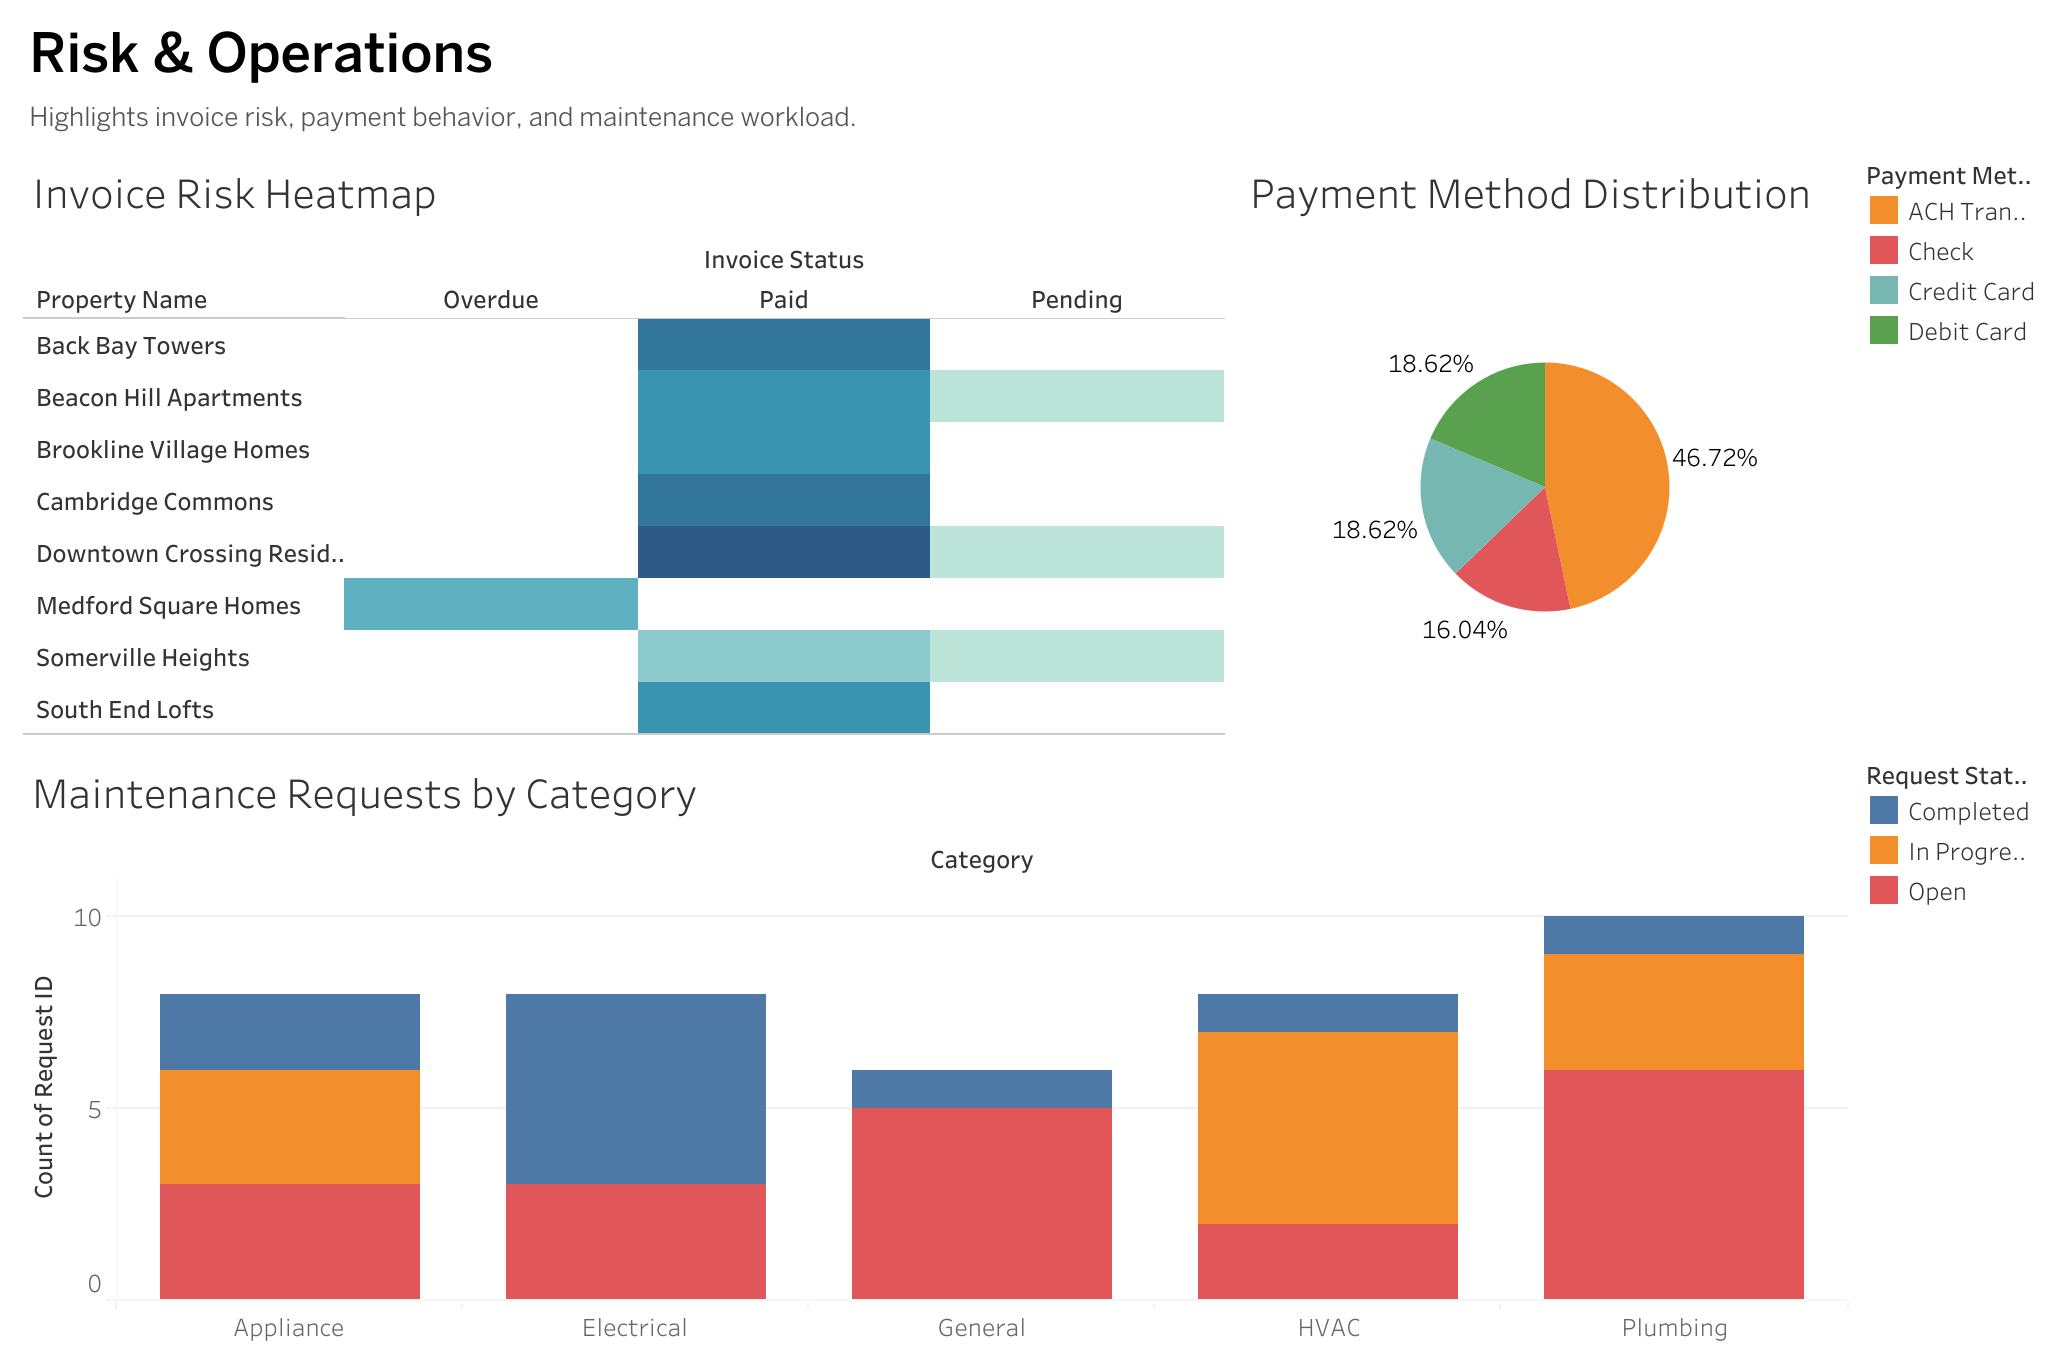

The dashboard page shown, as its layout file describes it:
{"tool":"tableau","page":{"name":"Risk & Operations","canvas":[1000,1000],"units":"permille","ordinal":2},"visuals":[{"type":"text","box":[6.3,10.5,987.3,52.5]},{"type":"text","box":[6.3,63,987.3,42]},{"type":"worksheet","title":"Invoice Risk Heatmap","mark":"Square","rows":["PropertyName"],"cols":["invoice_status"],"box":[6.3,105,592.7,439.6]},{"type":"worksheet","title":"Payment Method Distribution","mark":"Pie","box":[599.1,105,303.5,439.6]},{"type":"legend","title":"Payment Method Distribution","param":"[federated.00ivaoy1877ylq19u2bzy1jg5pxo].[none:payment_method:nk]","box":[902.5,105,91.1,439.6]},{"type":"worksheet","title":"Maintenance Requests by Category","mark":"Automatic","rows":["RequestID"],"cols":["category"],"box":[6.3,544.6,896.2,444.9]},{"type":"legend","title":"Maintenance Requests by Category","param":"[federated.020ndz11w738iw179gr7x0aiil94].[none:request_status:nk]","box":[902.5,544.6,91.1,444.9]}]}

Visuals, with their boxes on the dashboard's canvas, which has no fixed pixel size, in thousandths of its width and height (x1, y1, x2, y2). These are canvas units, not pixel positions in the 2058x1366 screenshot, which may show the page scaled, cropped or inside an application window:
text: 6 10 994 63
text: 6 63 994 105
"Invoice Risk Heatmap" worksheet (Square marks): 6 105 599 545
"Payment Method Distribution" worksheet (Pie marks): 599 105 903 545
"Payment Method Distribution" legend: 902 105 994 545
"Maintenance Requests by Category" worksheet: 6 545 902 990
"Maintenance Requests by Category" legend: 902 545 994 990
